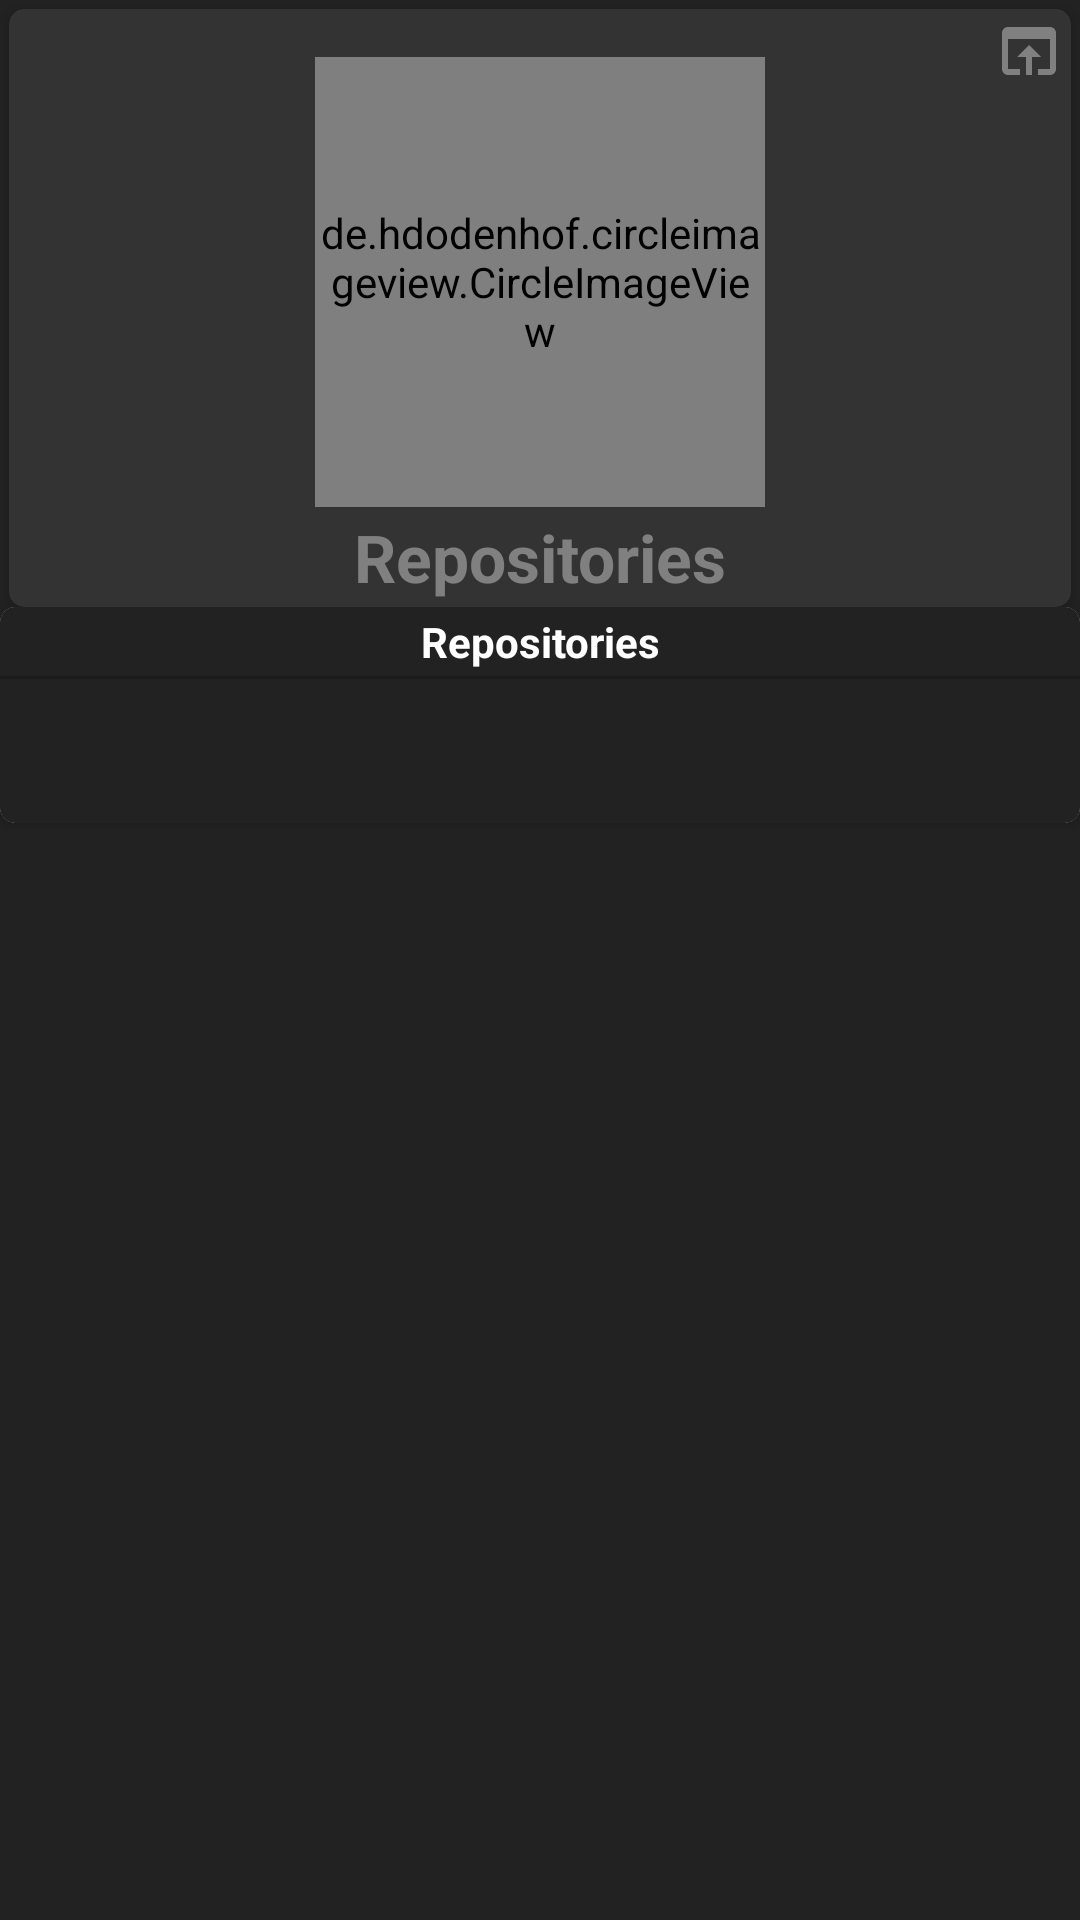

Point at icon controls on the screen. Image size 1080 x 1920, points as (x=x, y=y).
browser: (x=1029, y=51)
